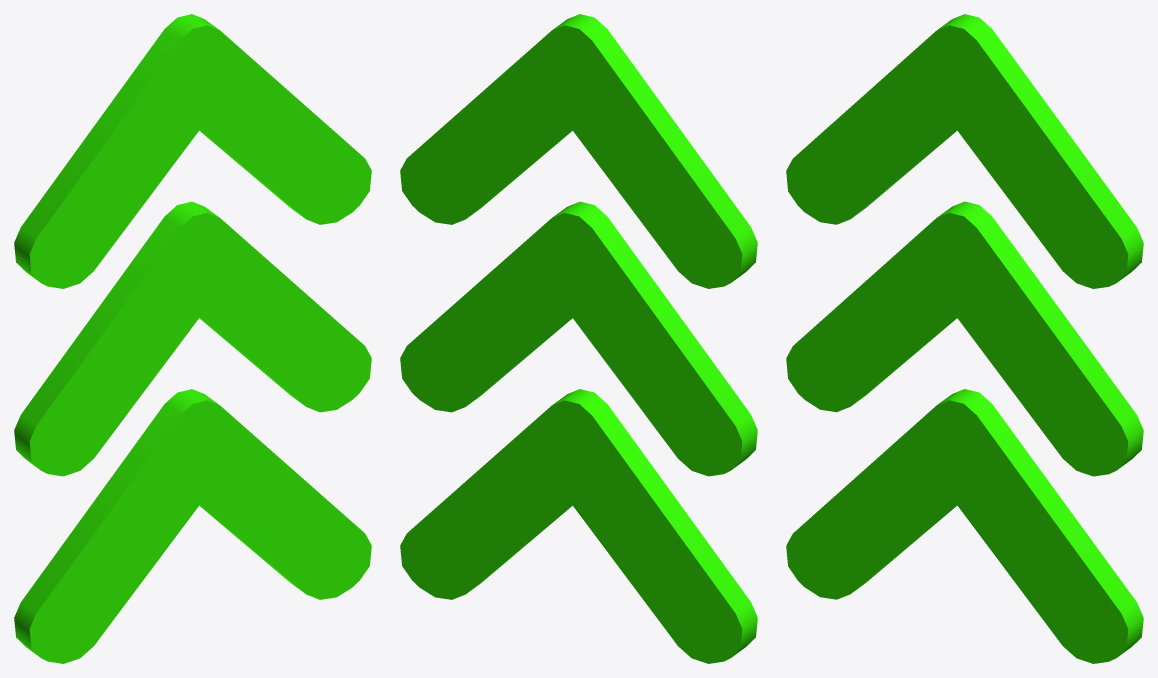
The model's file is speed up.fbx.
The picture shows the model from 3 angles, left to right: view 1: azimuth 30°, elevation 25°; view 2: azimuth 150°, elevation 25°; view 3: azimuth 330°, elevation 25°; orthographic projection.
Parts seen in each view (by area): view 1: speed up; view 2: speed up; view 3: speed up.
Part boxes in pixels (x1,y1,x2,y2): speed up: (14,14,371,663); speed up: (400,14,757,663); speed up: (786,14,1143,663).
Bounding box in the file's own units: 0.1591 × 0.2682 × 0.0125.
